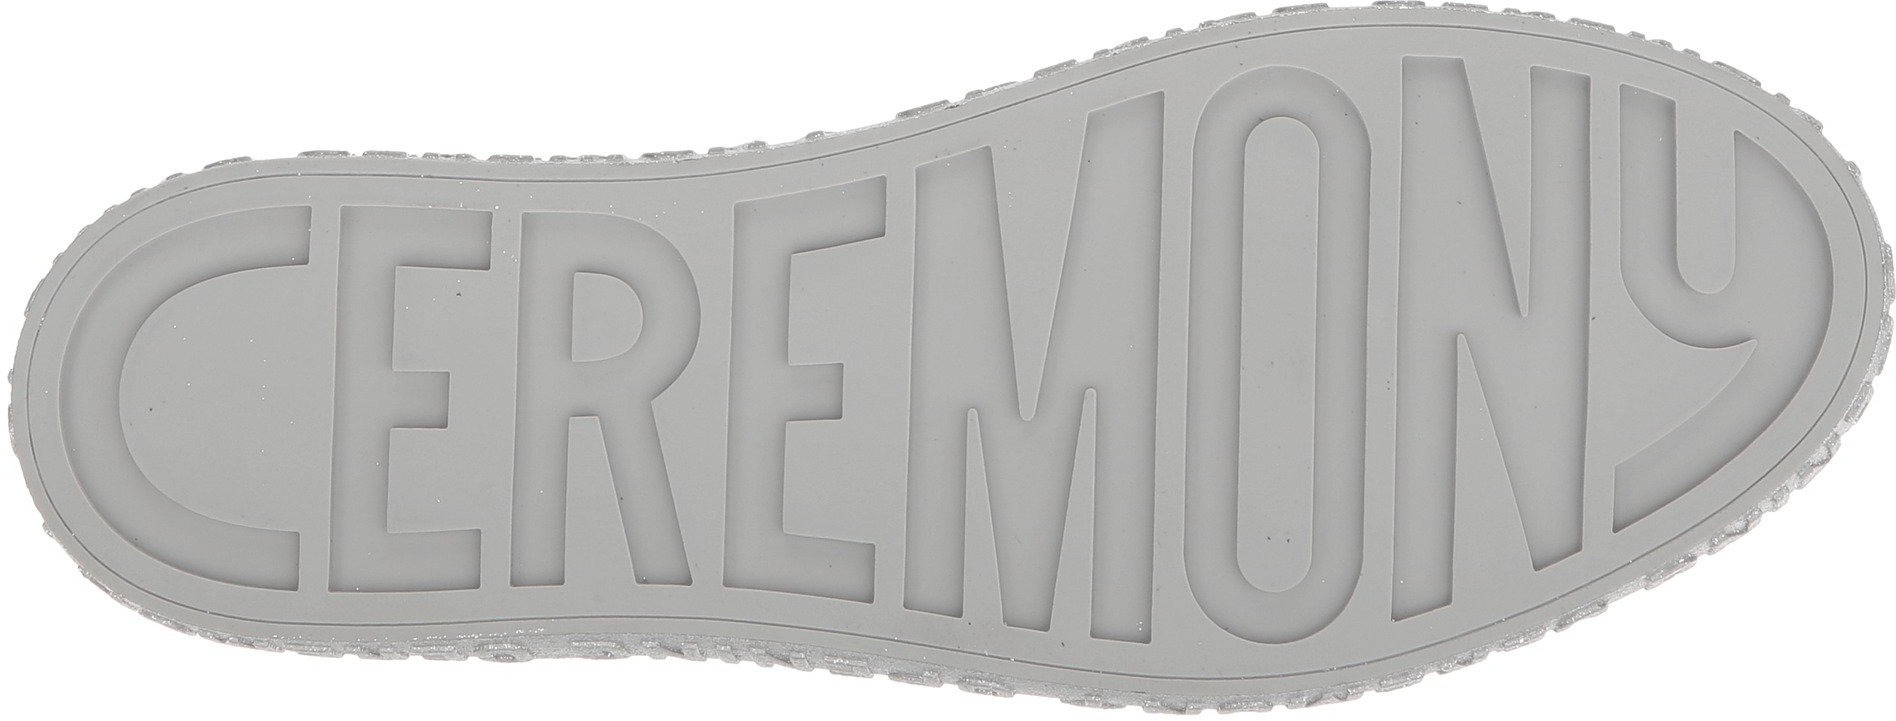text: (895, 80, 1393, 670), (8, 158, 508, 640), (895, 161, 1357, 656), (505, 202, 885, 586), (1376, 126, 1752, 475), (120, 230, 501, 565)
